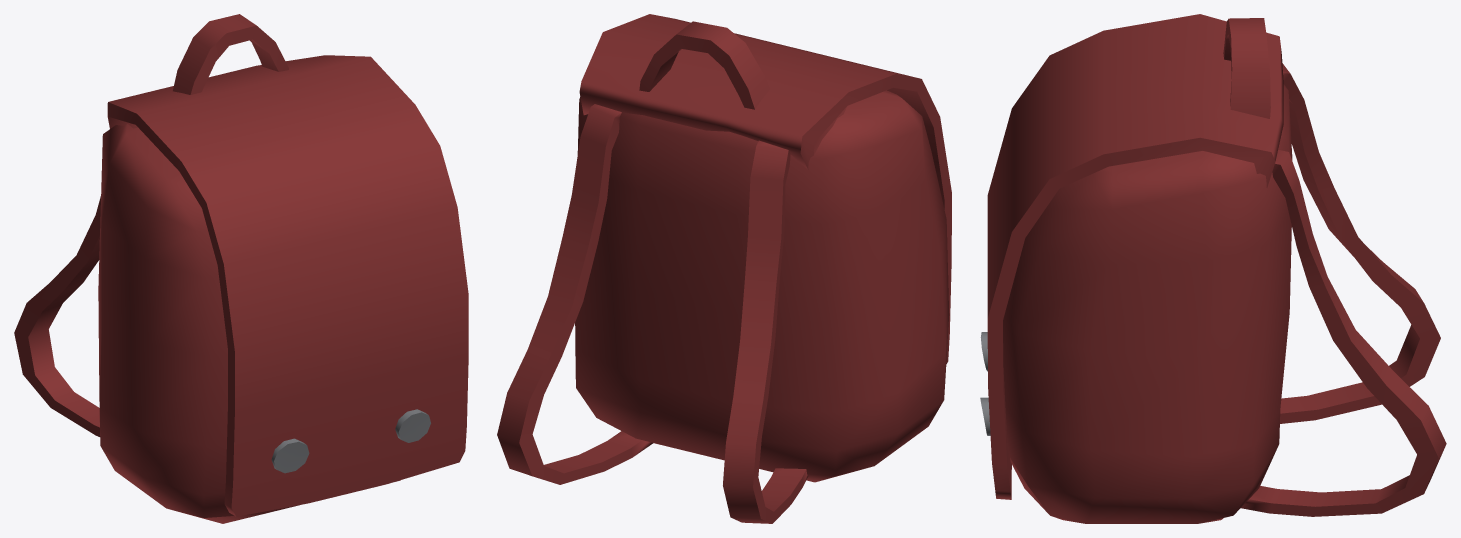
The model's file is M_backpack.fbx.
3 views of the same model, side by side, from view 1: azimuth 30°, elevation 25°; view 2: azimuth 150°, elevation 25°; view 3: azimuth 270°, elevation 25° (orthographic). The views are drawn at different scales.
Parts seen in each view (by area): view 1: backpack; view 2: backpack; view 3: backpack.
Boxes of the visible parts, left/top/right/bottom form: backpack: left=14, top=14, right=468, bottom=523; backpack: left=497, top=14, right=951, bottom=523; backpack: left=980, top=14, right=1446, bottom=523.
Size of the model in its own units: 40.32 by 52.17 by 48.97.
1 material, 1 textured.
